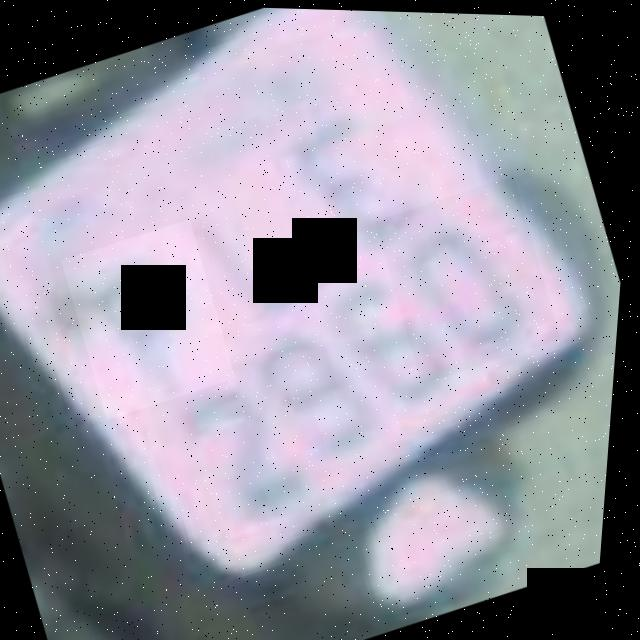0: (369, 169, 575, 385)
3: (144, 341, 356, 549)
6: (300, 227, 490, 436)
9: (213, 268, 431, 493)
P: (56, 215, 250, 422)
